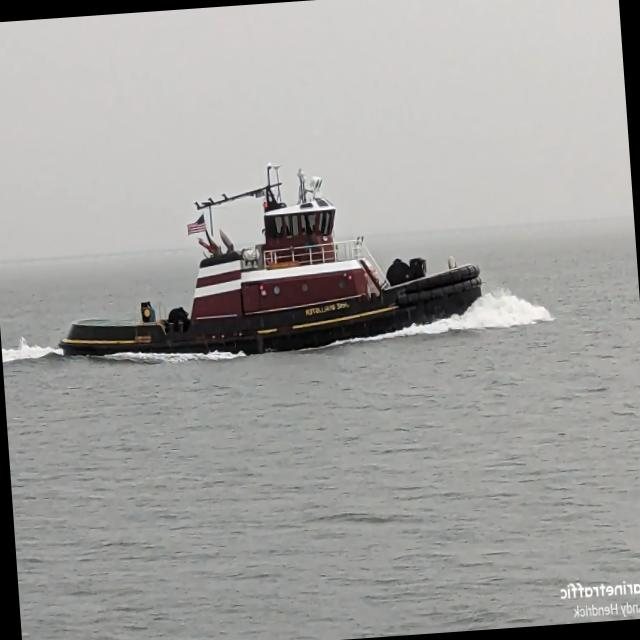Tug: (60, 167, 480, 358)
